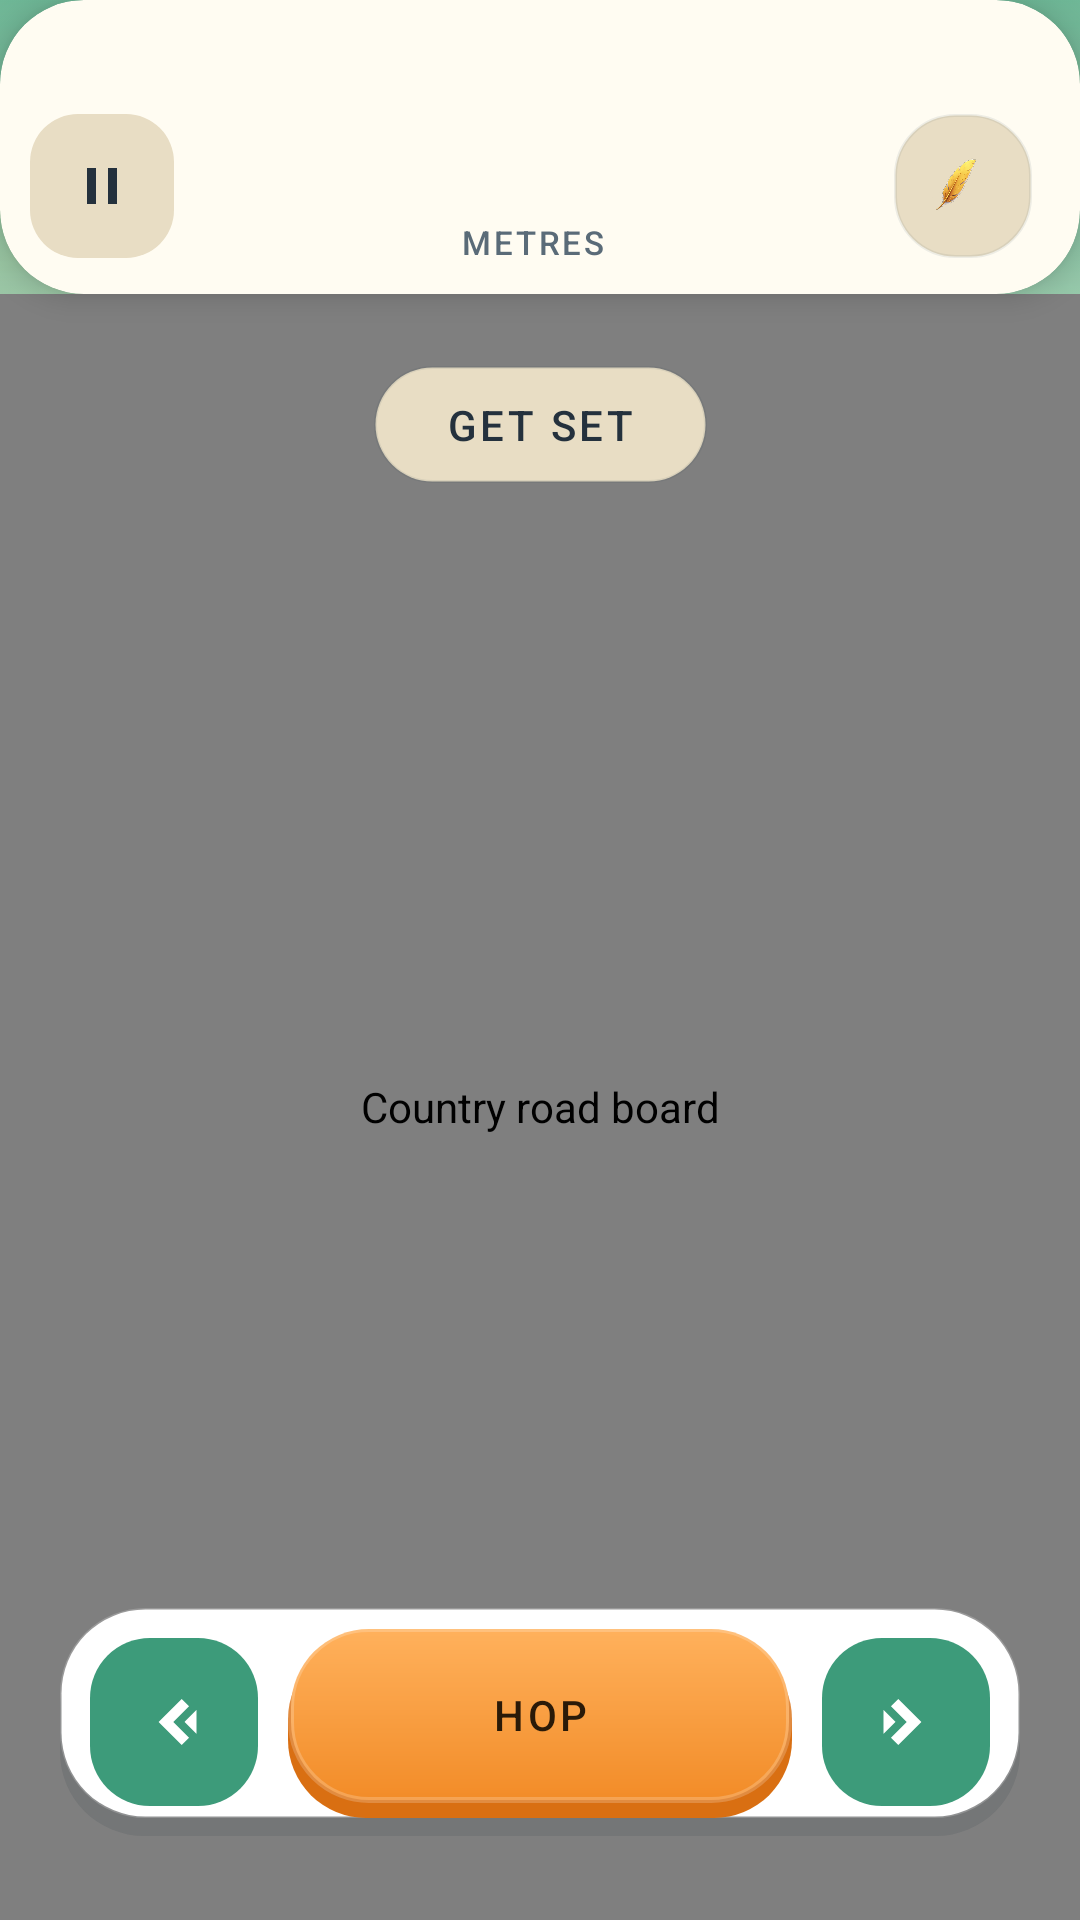

Icons on this 1080 x 1920 Android screen, each with its box as (x1, y1, x2, y2):
Move one lane left: (90, 1638, 258, 1806)
Move one lane right: (822, 1638, 990, 1806)
Pause the run: (30, 114, 174, 258)
sprite feather: (936, 159, 976, 210)
